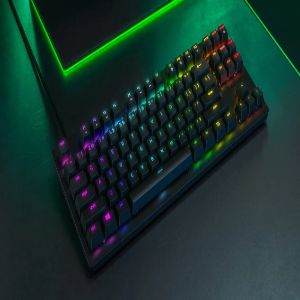keyboard: (48, 22, 274, 276)
